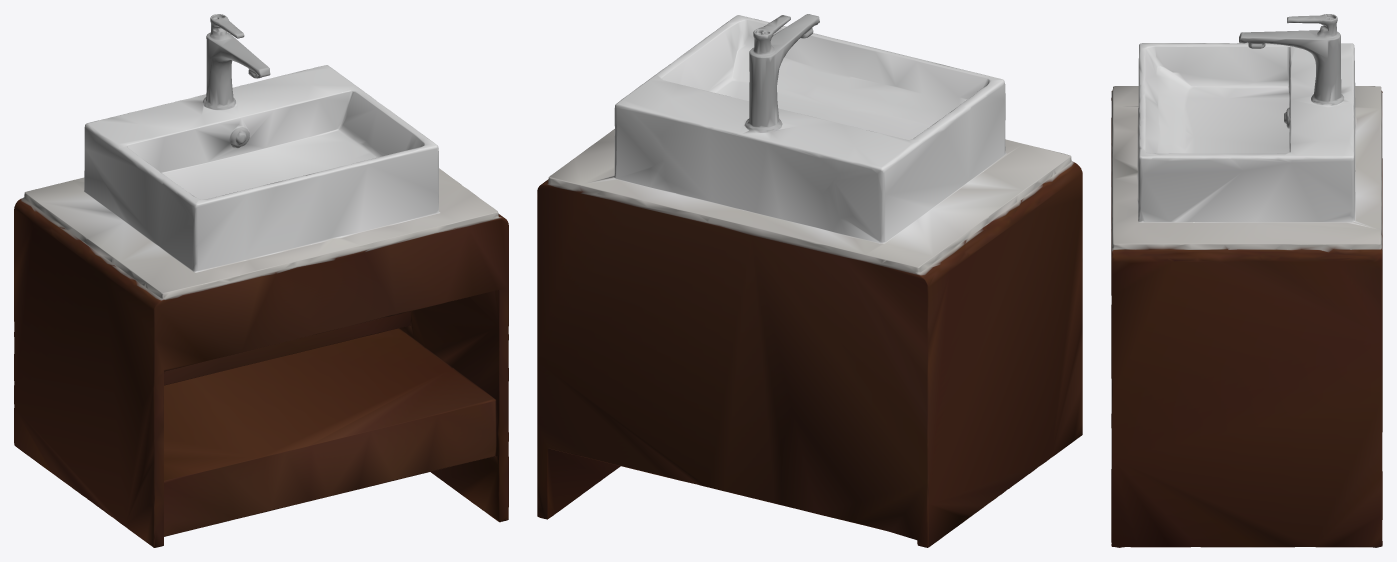
File: vanity.glb
3 views of the same model, side by side, from view 1: azimuth 30°, elevation 25°; view 2: azimuth 150°, elevation 25°; view 3: azimuth 270°, elevation 25° (orthographic). The views are drawn at different scales.
Size of the model in its own units: 0.7998 by 1 by 0.5486.
